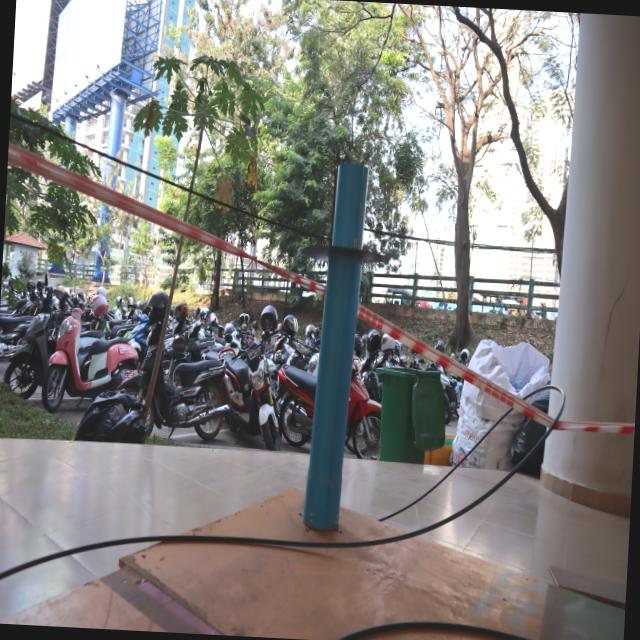pole: (288, 156, 404, 375)
